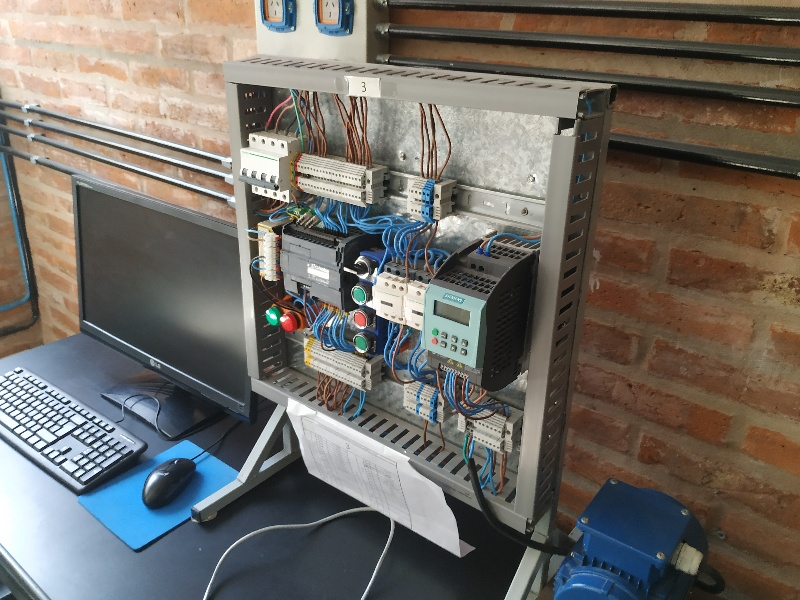Tablero 3: (230, 82, 535, 503)
